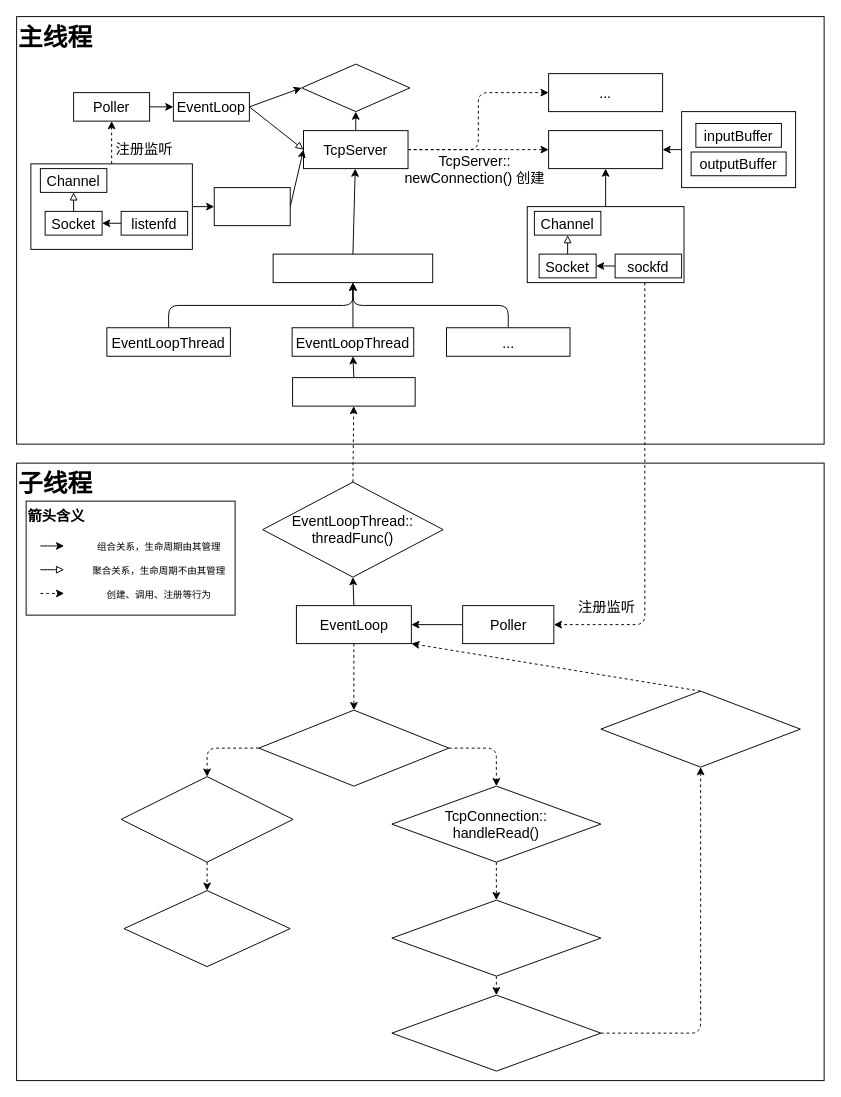
This 841x1097 diagram has some shape labels left out. Each missing label, with the centre of its shape:
"Acceptor" goes at pixel 251 206.
"Channel:: handleEvent()" goes at pixel 353 747.
"EventLoopThreadPool" goes at pixel 352 268.
"main()" goes at pixel 355 87.
"onMessage()" goes at pixel 496 937.
"onWriteCpmplete()" goes at pixel 206 928.
"TcpConnection" goes at pixel 605 149.
"TcpConnection:: handleWrite()" goes at pixel 206 819.
"TcpConnection:: send()" goes at pixel 496 1032.
"TcpConnection:: sendInLoop()" goes at pixel 700 728.
"Thread" goes at pixel 353 391.
